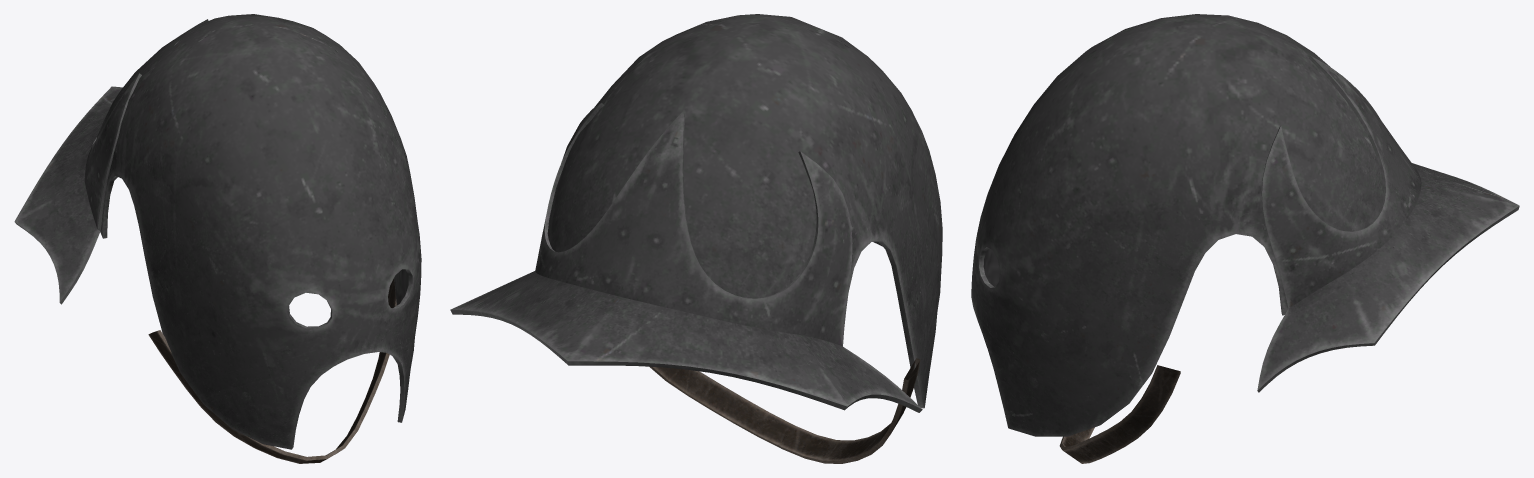
File: sk_uruk_hai_helmet_bers_a4.fbx
The picture shows the model from 3 angles, left to right: view 1: azimuth 30°, elevation 25°; view 2: azimuth 150°, elevation 25°; view 3: azimuth 270°, elevation 25°; orthographic projection. The views are drawn at different scales.
Parts seen in each view (by area): view 1: sk_uruk_hai_helmet_bers_a4.0, sk_uruk_hai_helmet_bers_a4.1; view 2: sk_uruk_hai_helmet_bers_a4.0, sk_uruk_hai_helmet_bers_a4.1; view 3: sk_uruk_hai_helmet_bers_a4.0, sk_uruk_hai_helmet_bers_a4.1.
Boxes of the visible parts, box(x1,y1,x2,y2) form: sk_uruk_hai_helmet_bers_a4.0: box(14, 14, 421, 449); sk_uruk_hai_helmet_bers_a4.1: box(148, 278, 396, 463); sk_uruk_hai_helmet_bers_a4.0: box(450, 14, 942, 412); sk_uruk_hai_helmet_bers_a4.1: box(649, 358, 920, 463); sk_uruk_hai_helmet_bers_a4.0: box(971, 14, 1519, 436); sk_uruk_hai_helmet_bers_a4.1: box(1059, 365, 1180, 463).
Size of the model in its own units: 0.2672 by 0.338 by 0.293.
Materials: 2 (2 with a texture image).
